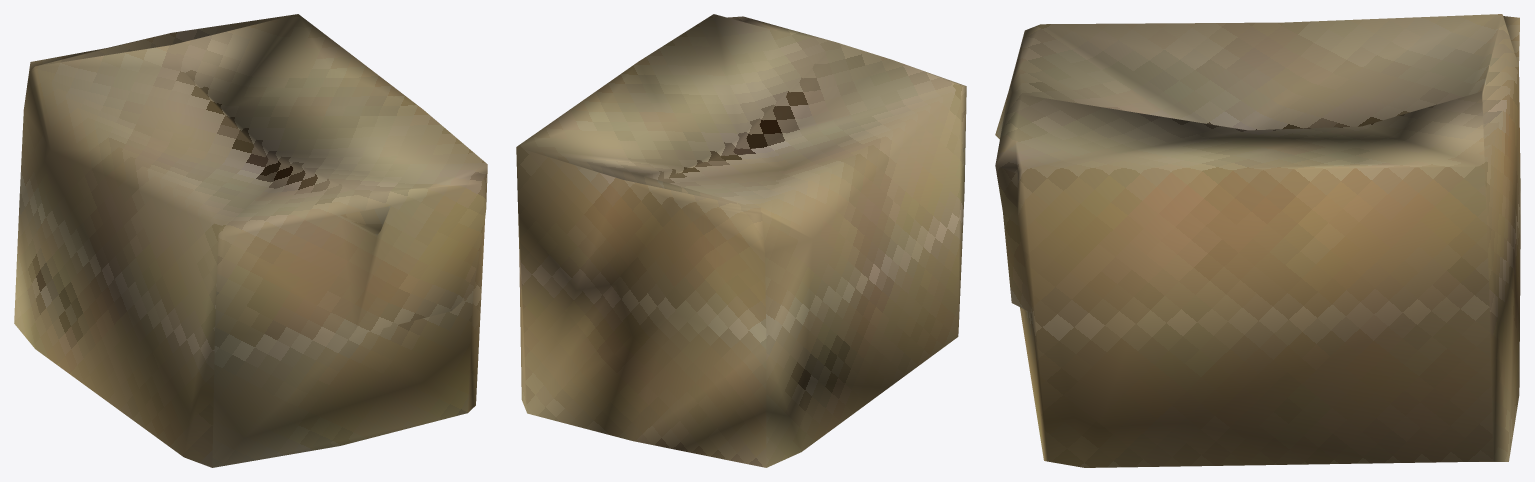
The model's file is cardboard_box_01.glb.
3 renders of one model, left to right at view 1: azimuth 30°, elevation 25°; view 2: azimuth 150°, elevation 25°; view 3: azimuth 270°, elevation 25°, orthographic. The views are drawn at different scales.
Visible parts, largest first — view 1: cardboard_box_01; view 2: cardboard_box_01; view 3: cardboard_box_01.
Boxes of the visible parts, x1,y1,x2,y2 form: cardboard_box_01: (14, 14, 487, 467); cardboard_box_01: (516, 14, 966, 467); cardboard_box_01: (995, 14, 1520, 467).
Size of the model in its own units: 0.3771 by 0.3366 by 0.5122.
1 material, 1 textured.
